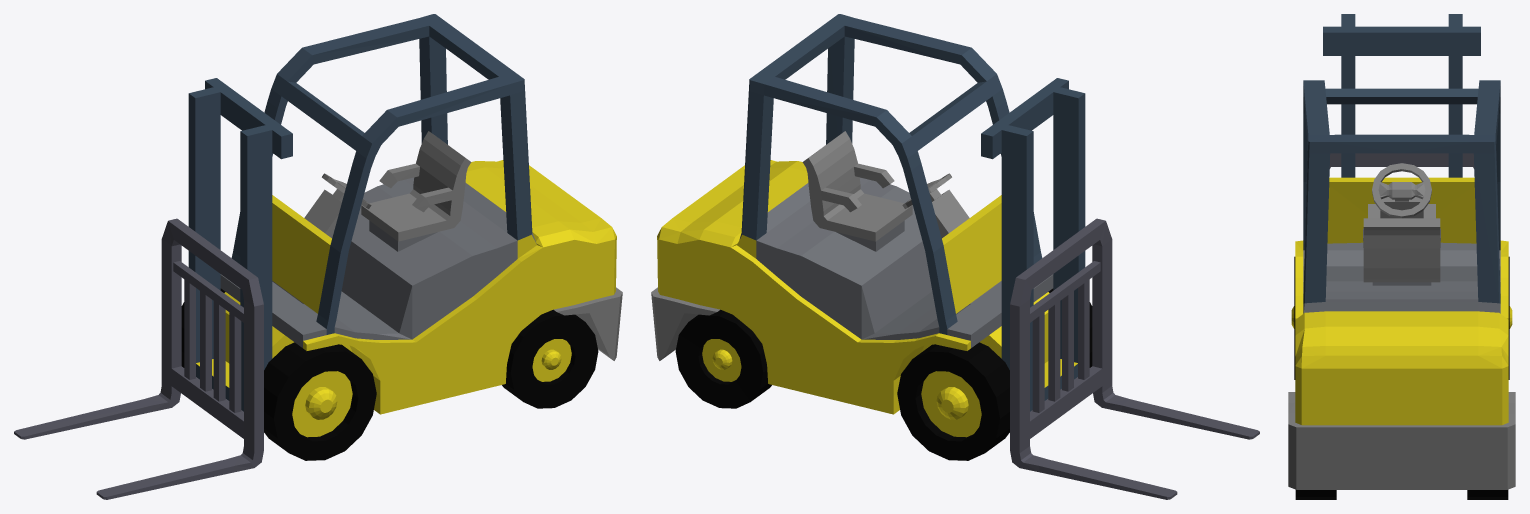
The model's file is truck_fork_lift.glb.
3 views of the same model, side by side, from view 1: azimuth 30°, elevation 25°; view 2: azimuth 150°, elevation 25°; view 3: azimuth 270°, elevation 25° (orthographic). The views are drawn at different scales.
Parts seen in each view (by area): view 1: Circle; view 2: Circle; view 3: Circle.
Part boxes in pixels (<box>): Circle: <box>14,14,622,499</box>; Circle: <box>651,14,1259,499</box>; Circle: <box>1288,14,1515,499</box>.
Bounding box in the file's own units: 3.51 × 2.16 × 1.3.
